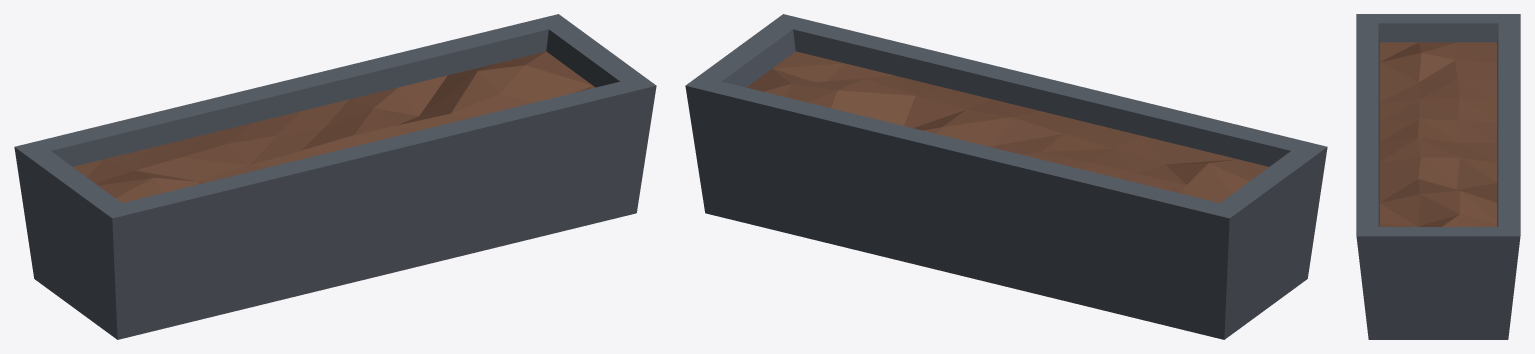
The model's file is Planter2.fbx.
3 renders of one model, left to right at view 1: azimuth 30°, elevation 25°; view 2: azimuth 150°, elevation 25°; view 3: azimuth 270°, elevation 25°, orthographic. The views are drawn at different scales.
Parts seen in each view (by area): view 1: Planter2; view 2: Planter2; view 3: Planter2.
Part boxes in pixels (x1=…): Planter2: x1=14, y1=14, x2=656, y2=339; Planter2: x1=685, y1=14, x2=1327, y2=339; Planter2: x1=1356, y1=14, x2=1520, y2=339.
Size of the model in its own units: 128 by 29.18 by 39.88.
